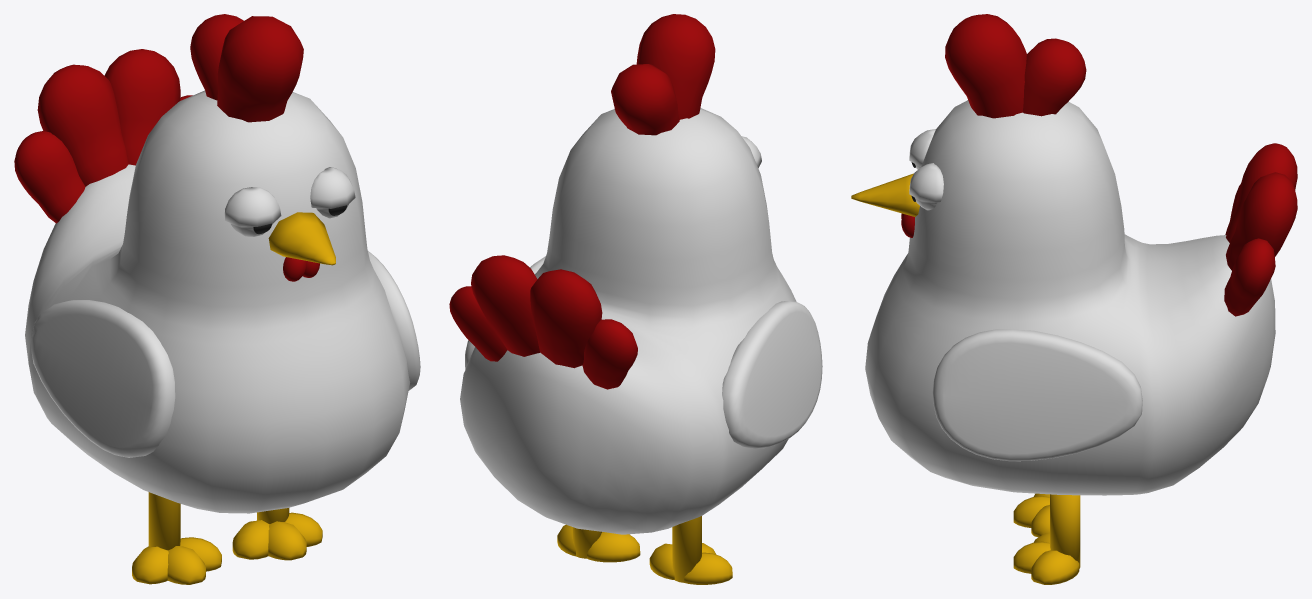
The model's file is Poule.fbx.
3 renders of one model, left to right at view 1: azimuth 30°, elevation 25°; view 2: azimuth 150°, elevation 25°; view 3: azimuth 270°, elevation 25°, orthographic. The views are drawn at different scales.
Visible parts, largest first — view 1: Cylinder.005; view 2: Cylinder.005; view 3: Cylinder.005.
Boxes of the visible parts, box(x1,y1,x2,y2) form: Cylinder.005: box(14, 14, 420, 584); Cylinder.005: box(449, 14, 822, 584); Cylinder.005: box(851, 14, 1297, 584).
Bounding box in the file's own units: 22 × 38.87 × 29.94.
